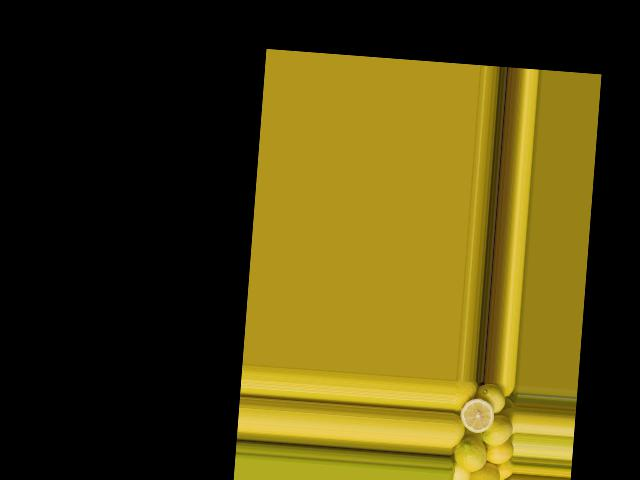lemon: (477, 384, 505, 411)
